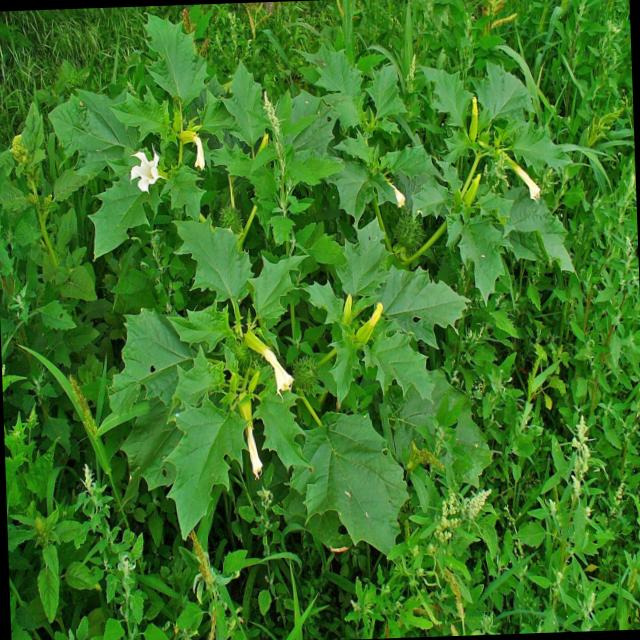Poisonous-Datura_Stramonium: (122, 292, 433, 640), (412, 84, 600, 370), (102, 96, 370, 287)
